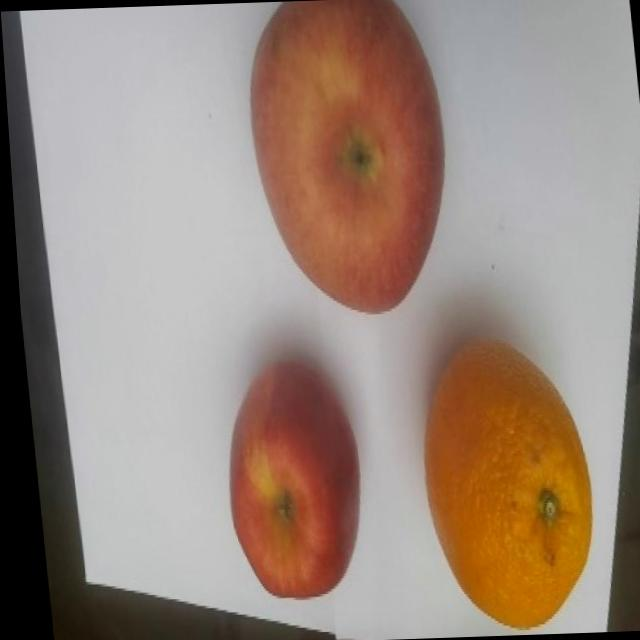Apple: (237, 0, 458, 316), (209, 356, 364, 600)
Orange: (404, 334, 597, 632)
